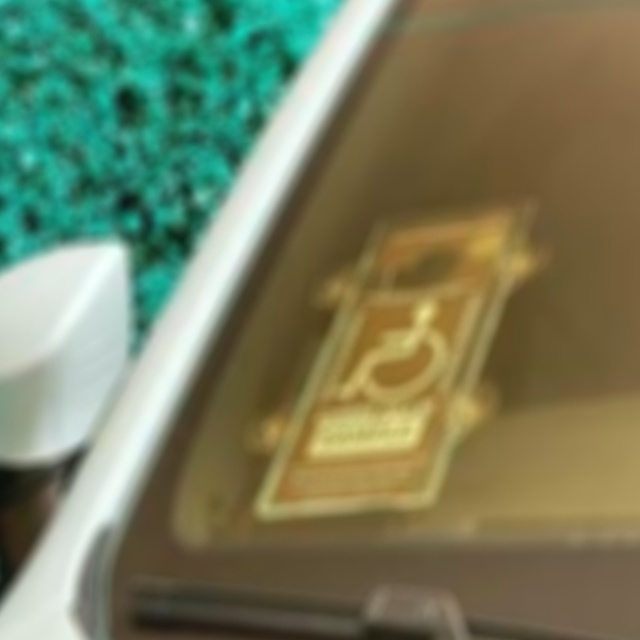ISA: (336, 300, 447, 405)
